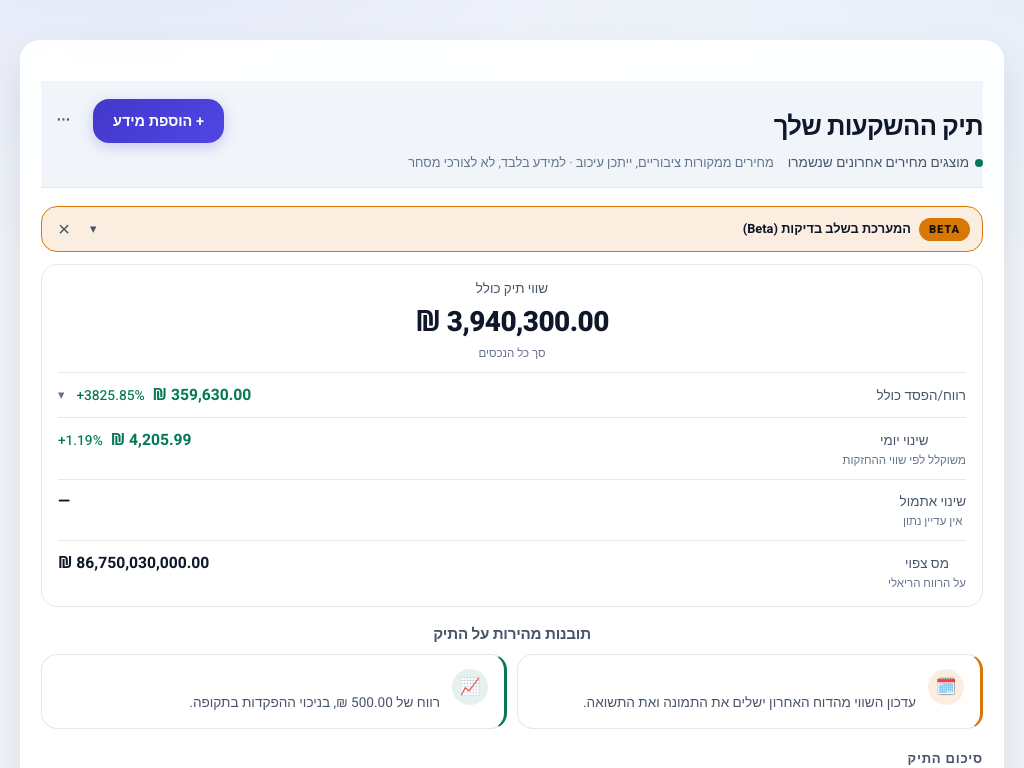
Test case: HomeView on a phone › the total profit appears once, and its row opens the breakdown
Expected: the text "רווח והפסד כולל" is not shown
Step 1. Click the text "רווח/הפסד כולל" → (921, 396), box [876,386,966,406]
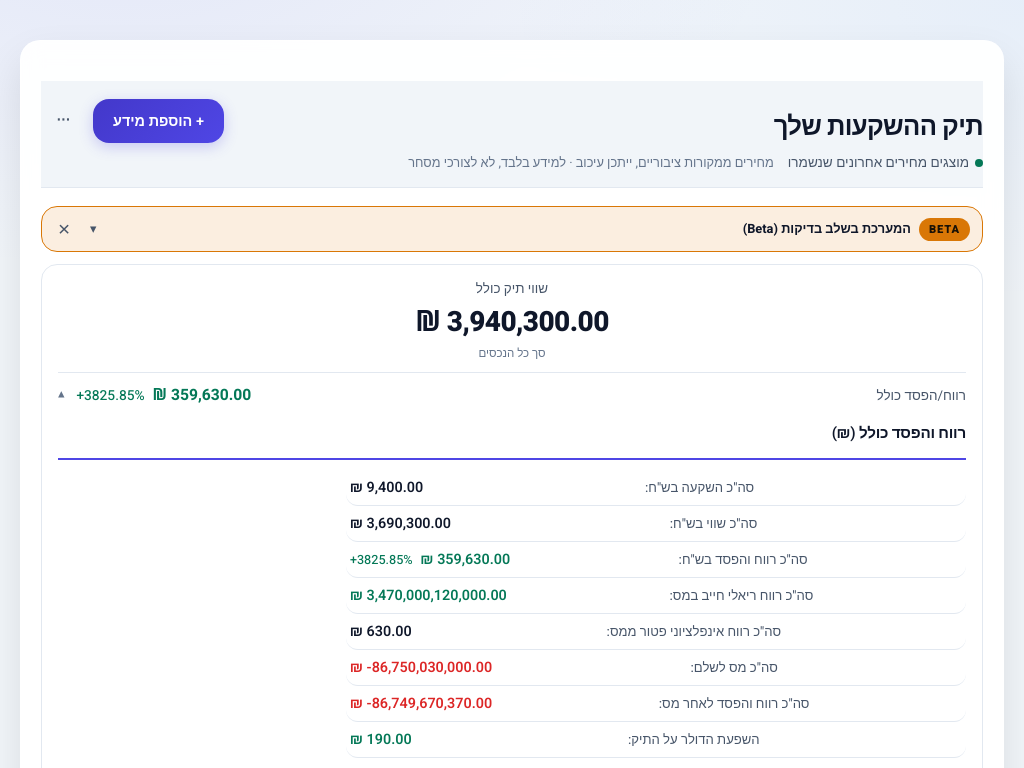
Expected: the element with class "home-kpi-fold" shows "רווח והפסד כולל (₪)", [832,422,966,444]
